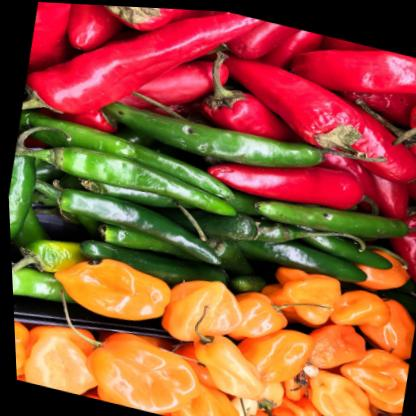chilli_pepper: (16, 1, 271, 160), (102, 86, 394, 196), (24, 131, 246, 217), (40, 181, 235, 266), (246, 176, 416, 256)
